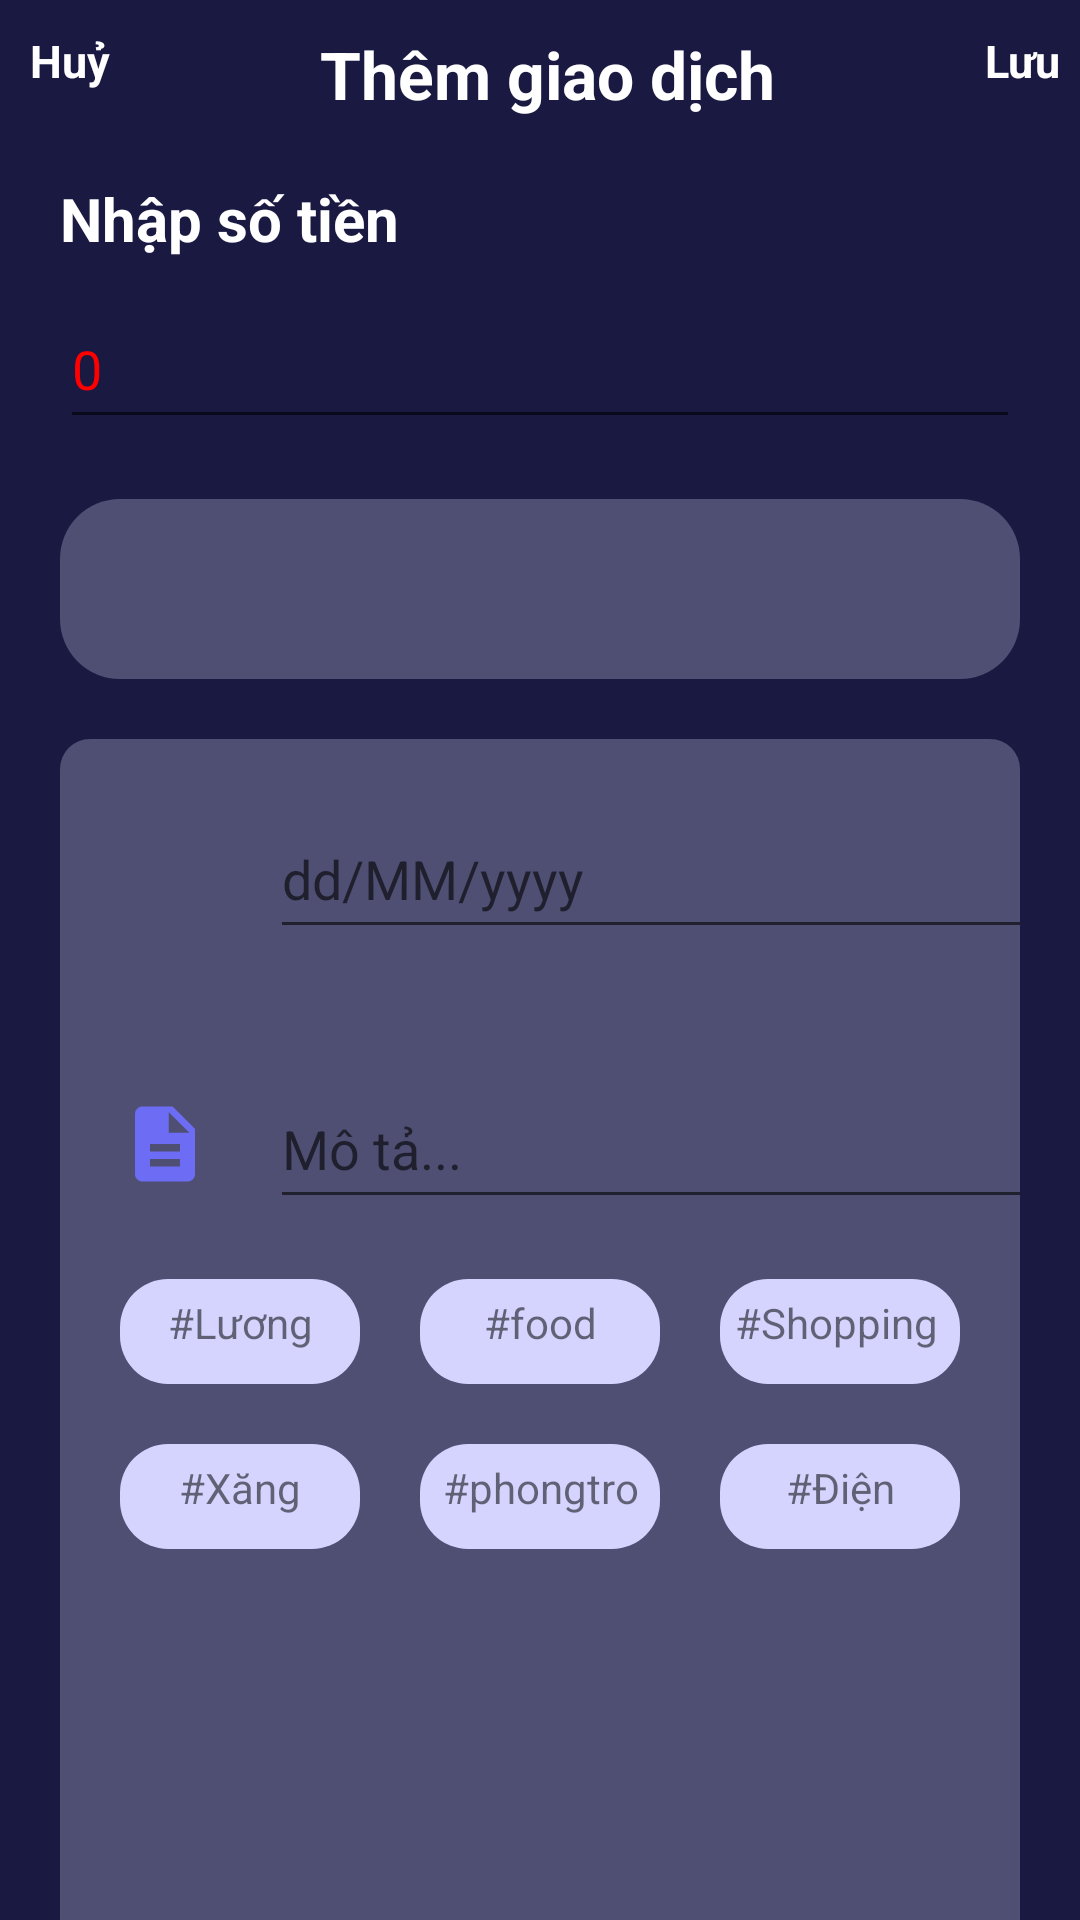

Named icons in this screenshot (1080 x 1920) and their bounding boxes, bbox=[x1, y1, x2, y2]:
description: bbox=[135, 1106, 195, 1182]
